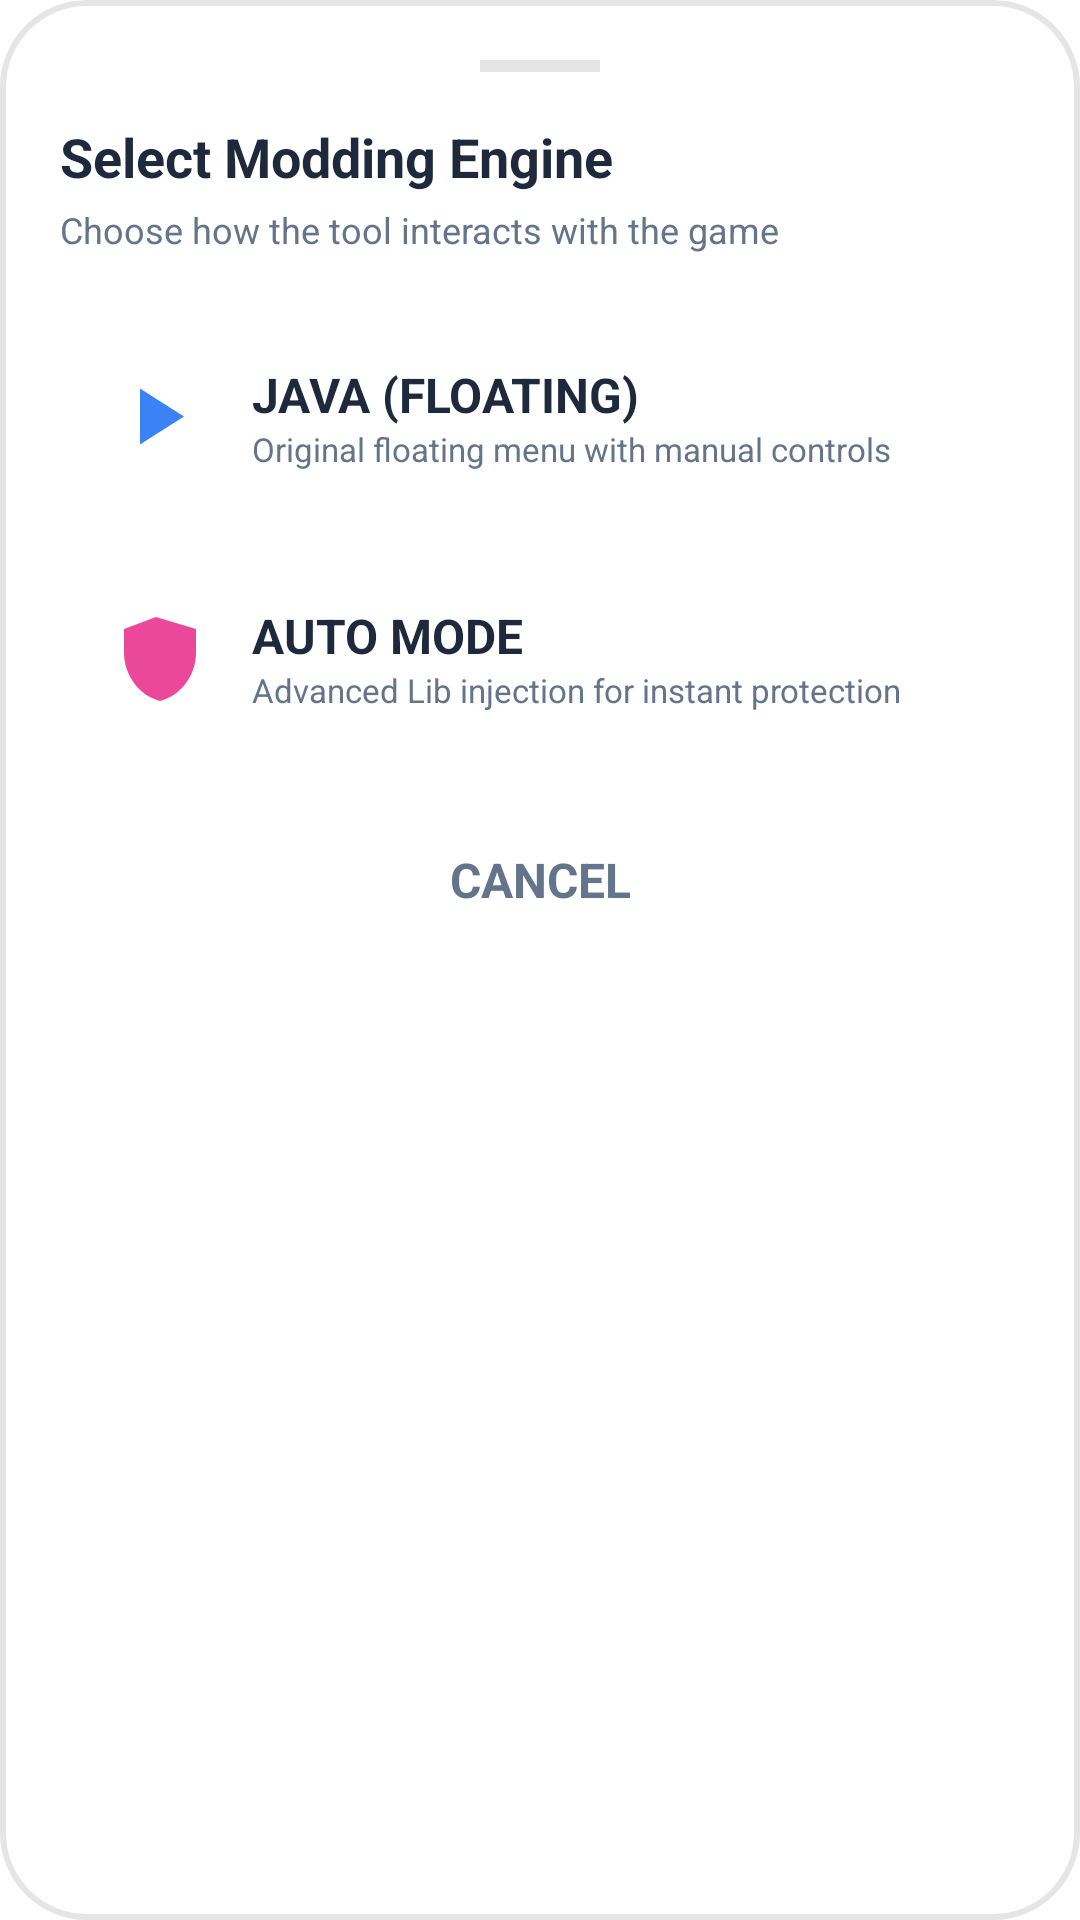

Point at icon controls on the screen. Image size 1080*1920, points as point (x, y).
animation play: point (162, 416)
